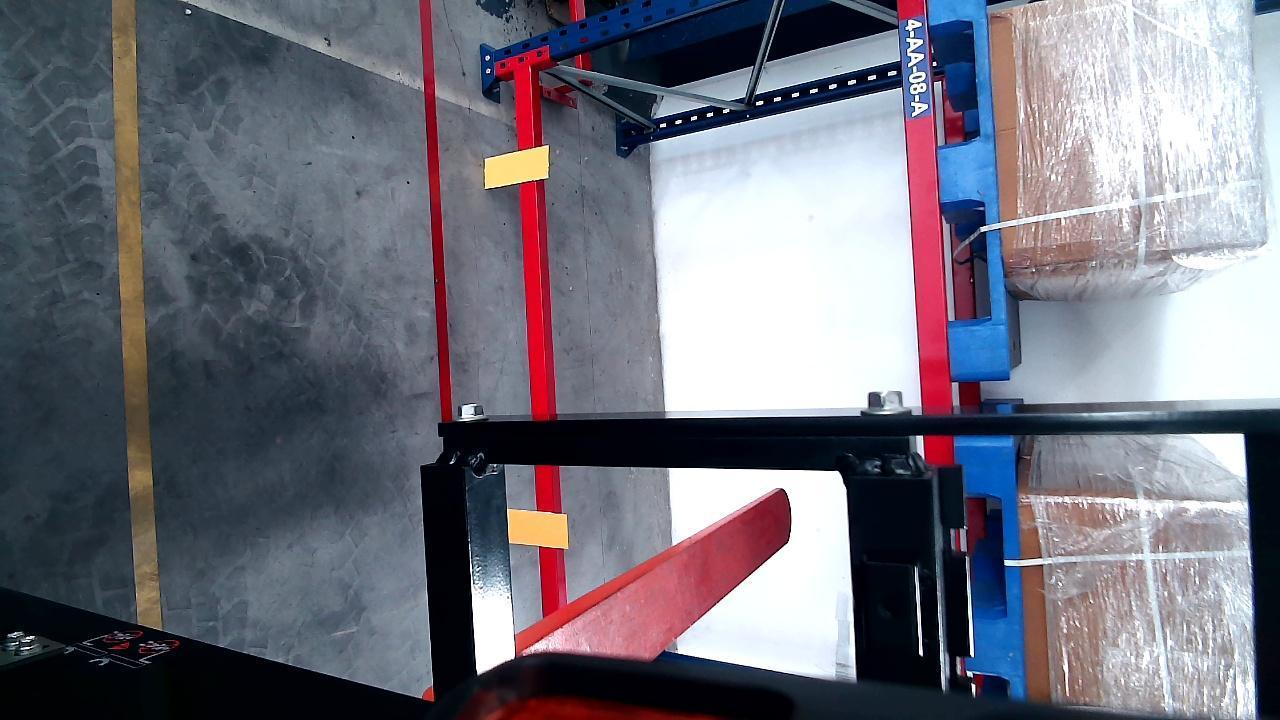h_rack: (898, 0, 945, 414), (512, 69, 552, 423)
orange_strip: (483, 147, 550, 188), (506, 508, 568, 548)
red_line: (420, 0, 453, 423)
small_pallet: (931, 0, 1007, 373), (956, 435, 1027, 689)
yellow_line: (112, 0, 159, 637)
